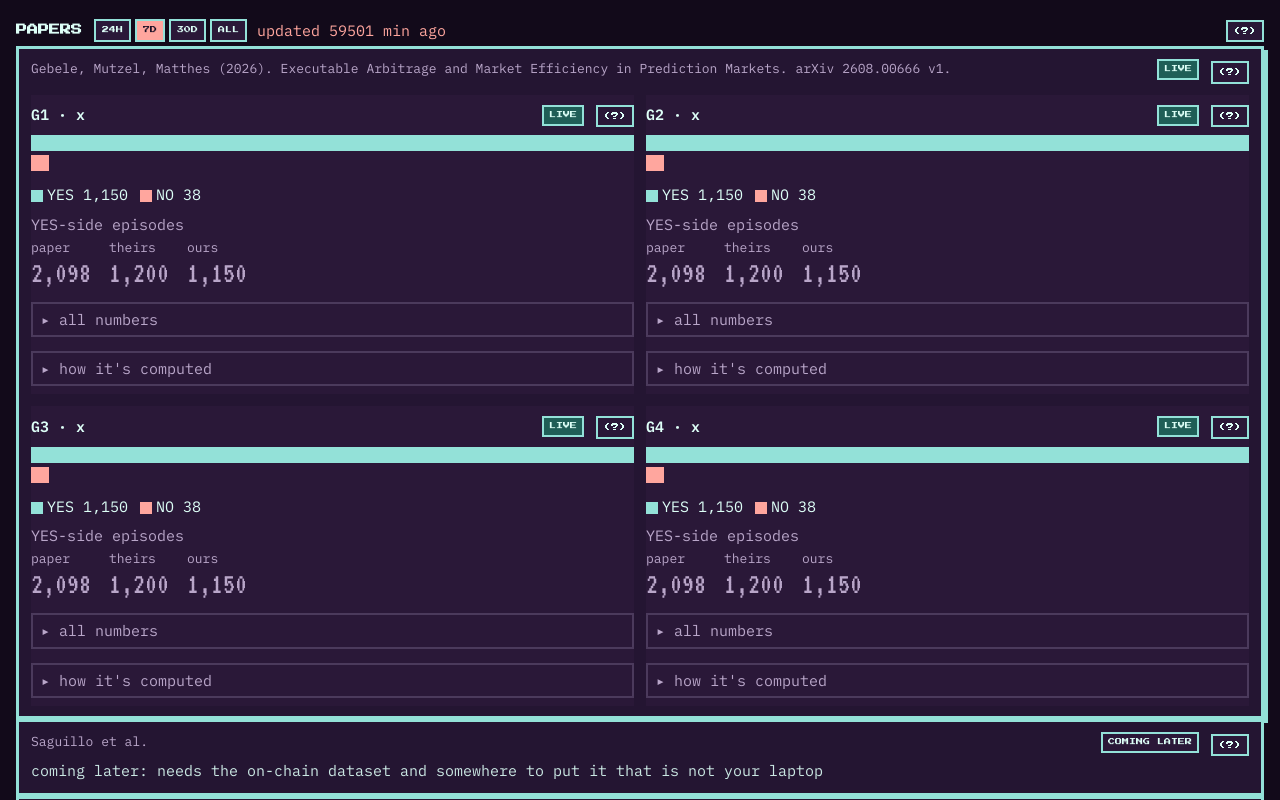
Test case: Papers › switches the window in the URL and refetches
Expected: the element "G1 · x" is shown, left=31, top=95, right=634, bottom=394
Click the button "30D".
click(188, 30)  # box left=169, top=19, right=206, bottom=42
(page scrolled)
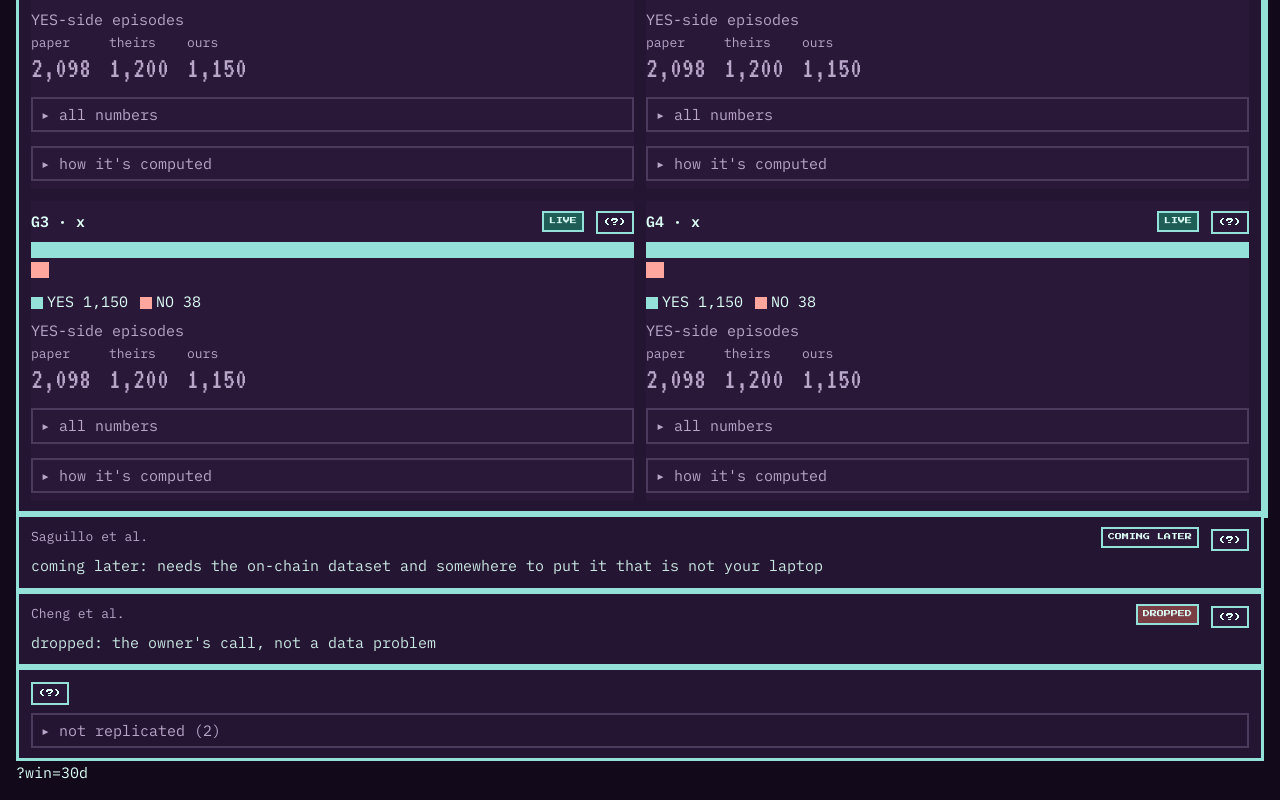
Now the text with test id "loc" reads "?win=30d", box left=16, top=763, right=88, bottom=782
